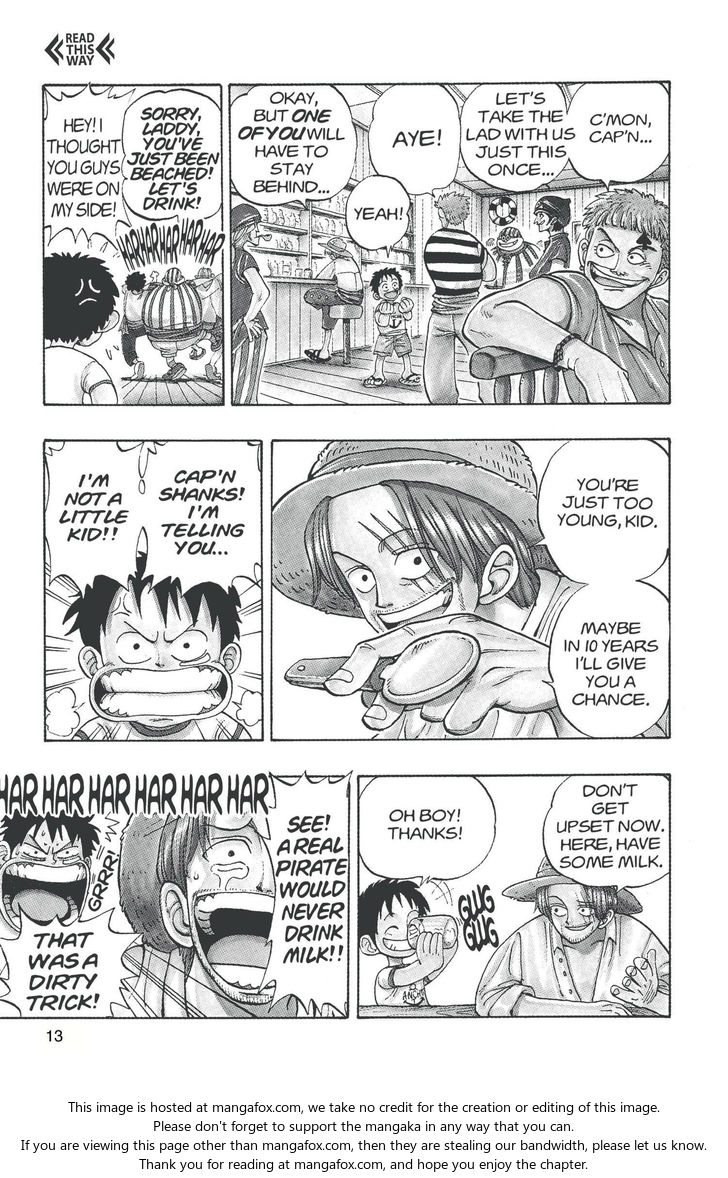bubble: (258, 770, 352, 1016), (530, 437, 671, 585), (544, 581, 669, 740), (143, 439, 263, 597), (42, 439, 145, 598), (0, 905, 142, 1018), (229, 84, 357, 207), (43, 83, 135, 251), (359, 775, 496, 887), (542, 773, 670, 891), (458, 82, 580, 196), (120, 88, 222, 219), (569, 82, 671, 192), (368, 83, 460, 198), (344, 175, 411, 255)
